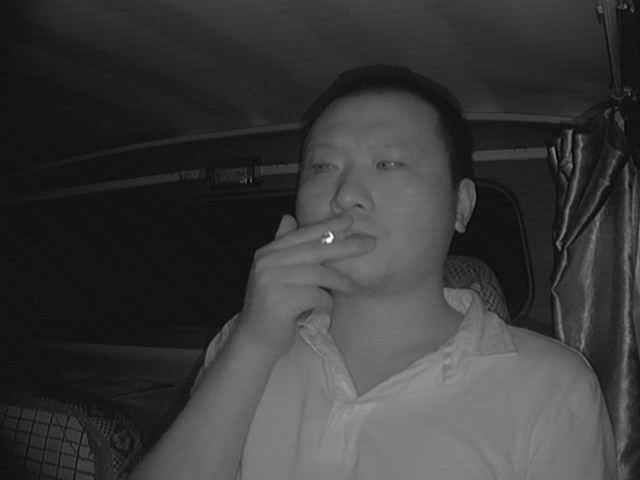hand: (240, 207, 369, 345)
